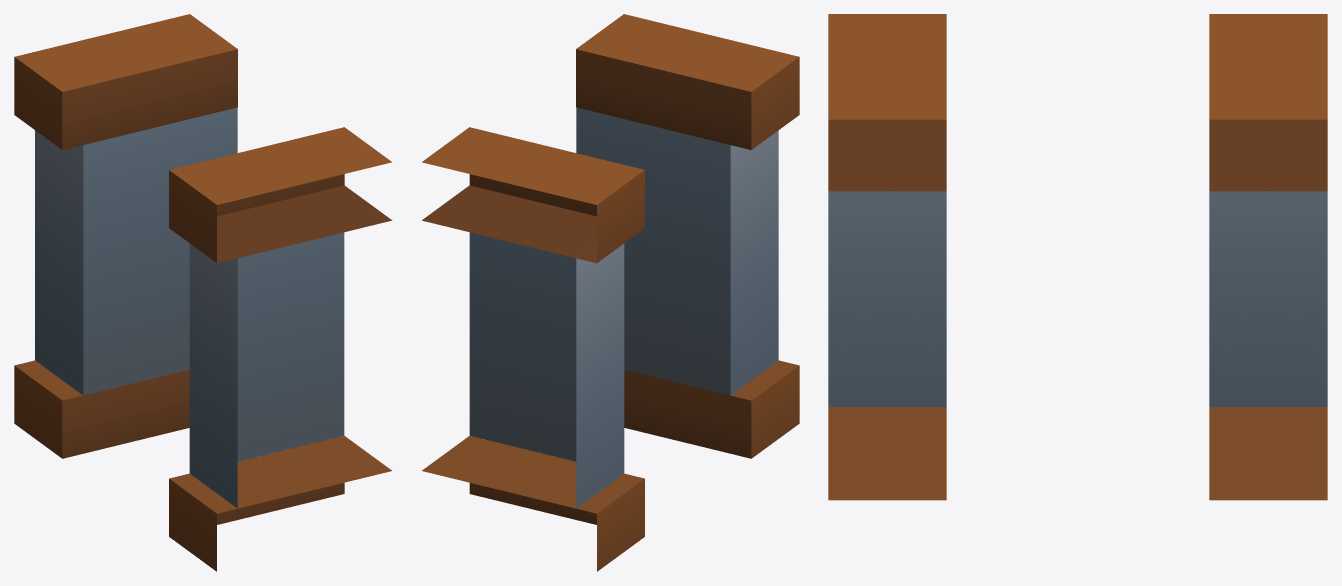
The model's file is Doorway.FBX.
3 renders of one model, left to right at view 1: azimuth 30°, elevation 25°; view 2: azimuth 150°, elevation 25°; view 3: azimuth 270°, elevation 25°, orthographic. The views are drawn at different scales.
Parts seen in each view (by area): view 1: Doorway; view 2: Doorway; view 3: Doorway.
Boxes of the visible parts, x1=… form: Doorway: x1=14, y1=14, x2=392, y2=571; Doorway: x1=422, y1=14, x2=799, y2=571; Doorway: x1=828, y1=14, x2=1327, y2=500.
Size of the model in its own units: 1 by 2 by 2.
